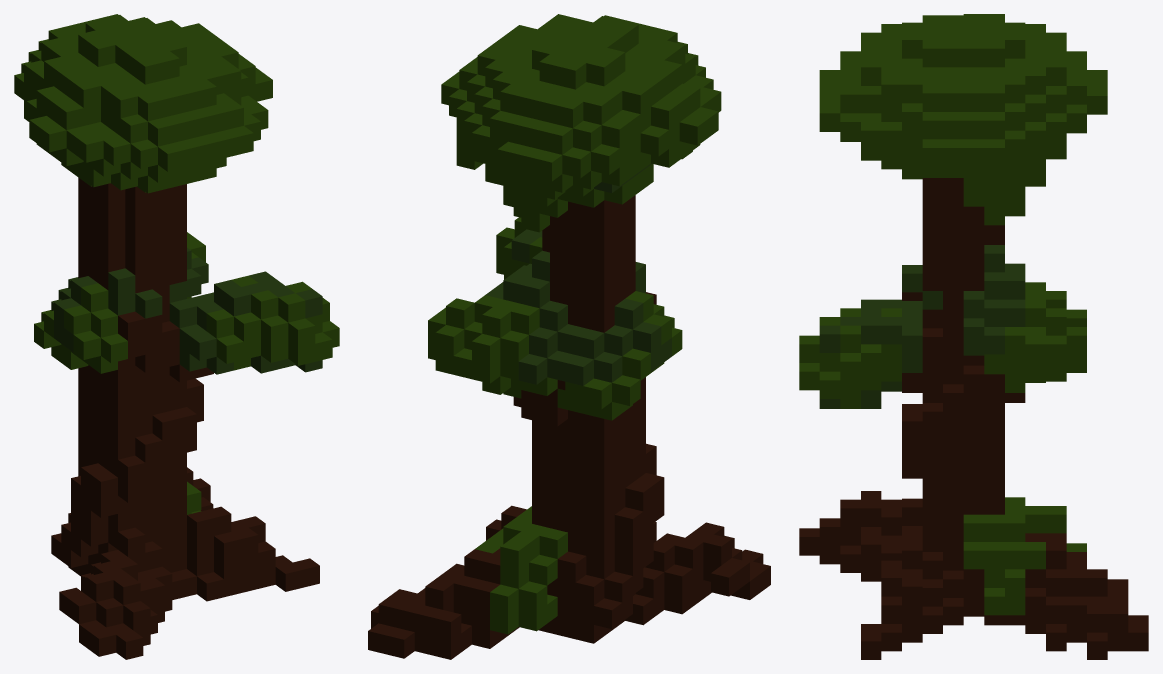
The model's file is Дерево.obj.
3 views of the same model, side by side, from view 1: azimuth 30°, elevation 25°; view 2: azimuth 150°, elevation 25°; view 3: azimuth 270°, elevation 25° (orthographic). The views are drawn at different scales.
Bounding box in the file's own units: 1.4 × 3 × 1.7.
Materials: 1 (1 with a texture image).
